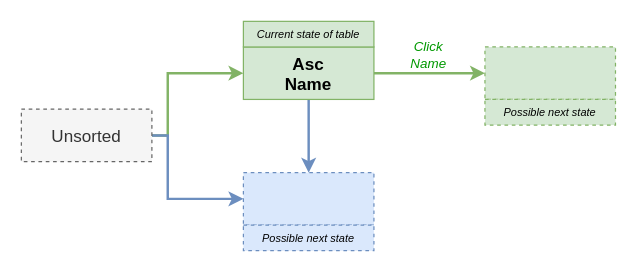
This 637x272 diagram has some shape labels left out. Each missing label, with the centre of its shape:
"Asc Score" belongs at (x=308, y=198).
"Desc Name" belongs at (x=549, y=72).
